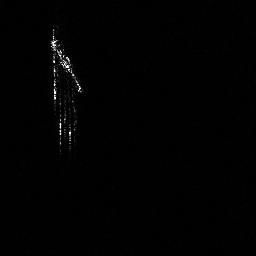ship: (47, 25, 88, 153)
